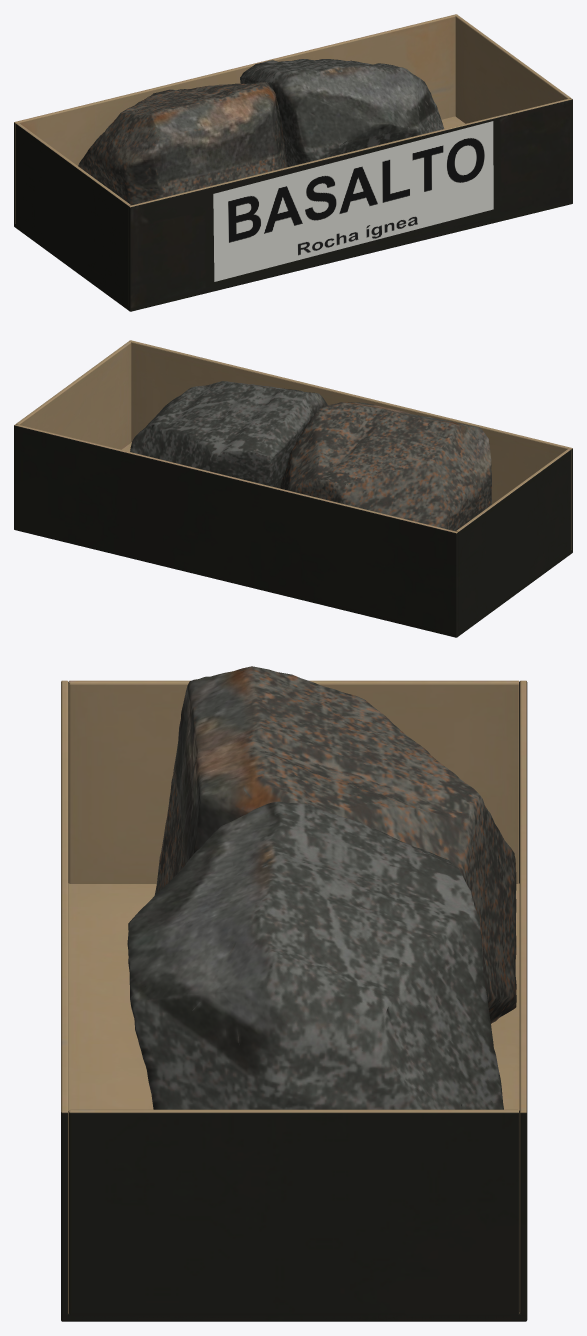
File: rocha_02_10_basalto.glb
3 views of the same model, one above another, from view 1: azimuth 30°, elevation 25°; view 2: azimuth 150°, elevation 25°; view 3: azimuth 270°, elevation 25° (orthographic). The views are drawn at different scales.
Parts seen in each view (by area): view 1: Etiqueta_mo10, Bandeja_Frente_mo10, Fragmento_01_mo10, Fragmento_02_mo10, Bandeja_Esquerda_mo10, Bandeja_Fundo_mo10, Bandeja_Direita_mo10, Bandeja_Base_mo10; view 2: Bandeja_Fundo_mo10, Fragmento_01_mo10, Fragmento_02_mo10, Bandeja_Esquerda_mo10, Bandeja_Frente_mo10, Bandeja_Direita_mo10, Bandeja_Base_mo10; view 3: Fragmento_02_mo10, Bandeja_Direita_mo10, Fragmento_01_mo10, Bandeja_Esquerda_mo10, Bandeja_Base_mo10, Bandeja_Fundo_mo10, Bandeja_Frente_mo10.
Boxes of the visible parts, x1,y1,x2,y2 form: Etiqueta_mo10: (213, 121, 493, 281); Bandeja_Frente_mo10: (128, 98, 572, 311); Fragmento_01_mo10: (78, 81, 287, 205); Fragmento_02_mo10: (240, 59, 444, 166); Bandeja_Esquerda_mo10: (16, 123, 130, 306); Bandeja_Fundo_mo10: (14, 14, 457, 226); Bandeja_Direita_mo10: (455, 15, 570, 123); Bandeja_Base_mo10: (14, 116, 524, 311); Bandeja_Fundo_mo10: (14, 424, 458, 637); Fragmento_01_mo10: (280, 402, 491, 531); Fragmento_02_mo10: (130, 381, 327, 488); Bandeja_Esquerda_mo10: (456, 449, 570, 633); Bandeja_Frente_mo10: (129, 340, 572, 552); Bandeja_Direita_mo10: (16, 341, 131, 449); Bandeja_Base_mo10: (87, 442, 572, 637); Fragmento_02_mo10: (127, 801, 503, 1109); Bandeja_Direita_mo10: (68, 1109, 519, 1321); Fragmento_01_mo10: (154, 666, 516, 1023); Bandeja_Esquerda_mo10: (68, 680, 519, 883); Bandeja_Base_mo10: (61, 883, 526, 1321); Bandeja_Fundo_mo10: (519, 680, 527, 1321); Bandeja_Frente_mo10: (61, 680, 68, 1321).
Bounding box in the file's own units: 0.2005 × 0.0641 × 0.0916.
3 materials, 3 textured.
